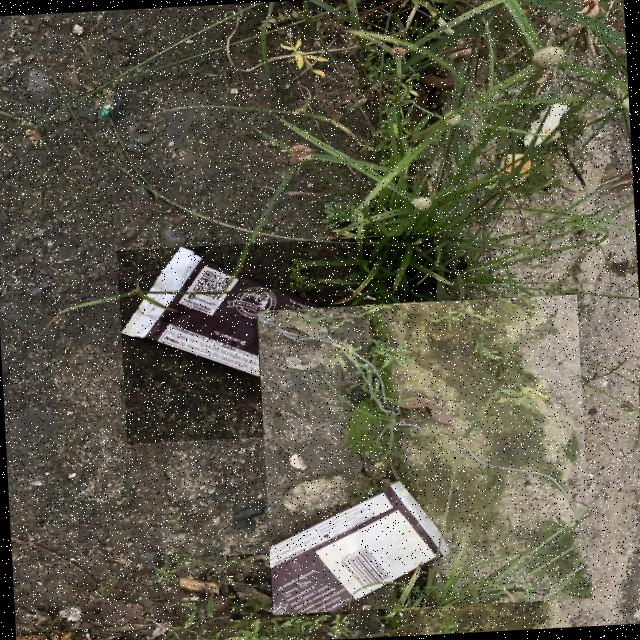Cigarette: (17, 630, 90, 640), (180, 579, 219, 595)
Other plastic: (122, 248, 440, 430), (97, 106, 111, 117)
Plastic film: (228, 554, 351, 616)
Scrap metal: (258, 311, 591, 601)
